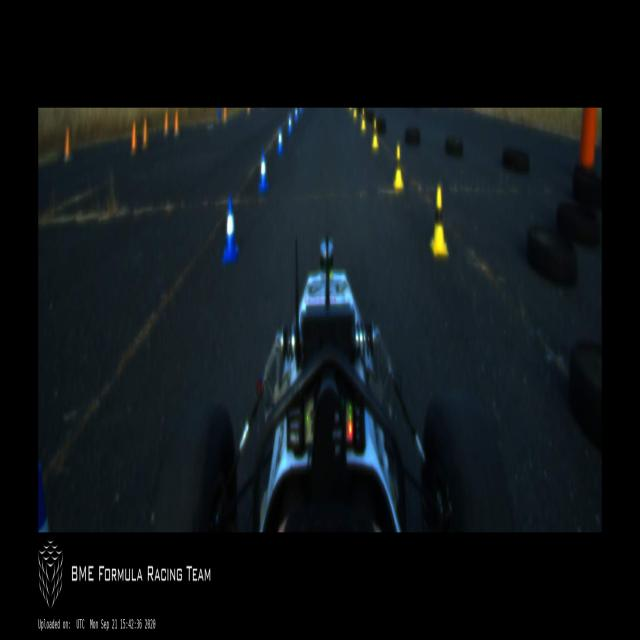blue_cone: (222, 195, 238, 263), (39, 462, 47, 532), (258, 148, 268, 192), (276, 122, 283, 156), (287, 108, 293, 134), (294, 108, 298, 124), (299, 108, 303, 116), (218, 108, 220, 120)
unknown_cone: (130, 121, 138, 157), (64, 128, 72, 162), (142, 118, 150, 150), (163, 109, 169, 137), (174, 109, 179, 136), (223, 108, 227, 120), (246, 108, 251, 114)
yellow_cone: (430, 186, 448, 256), (393, 144, 404, 191), (372, 120, 378, 149), (361, 108, 366, 131), (353, 108, 357, 119), (349, 108, 352, 110)
